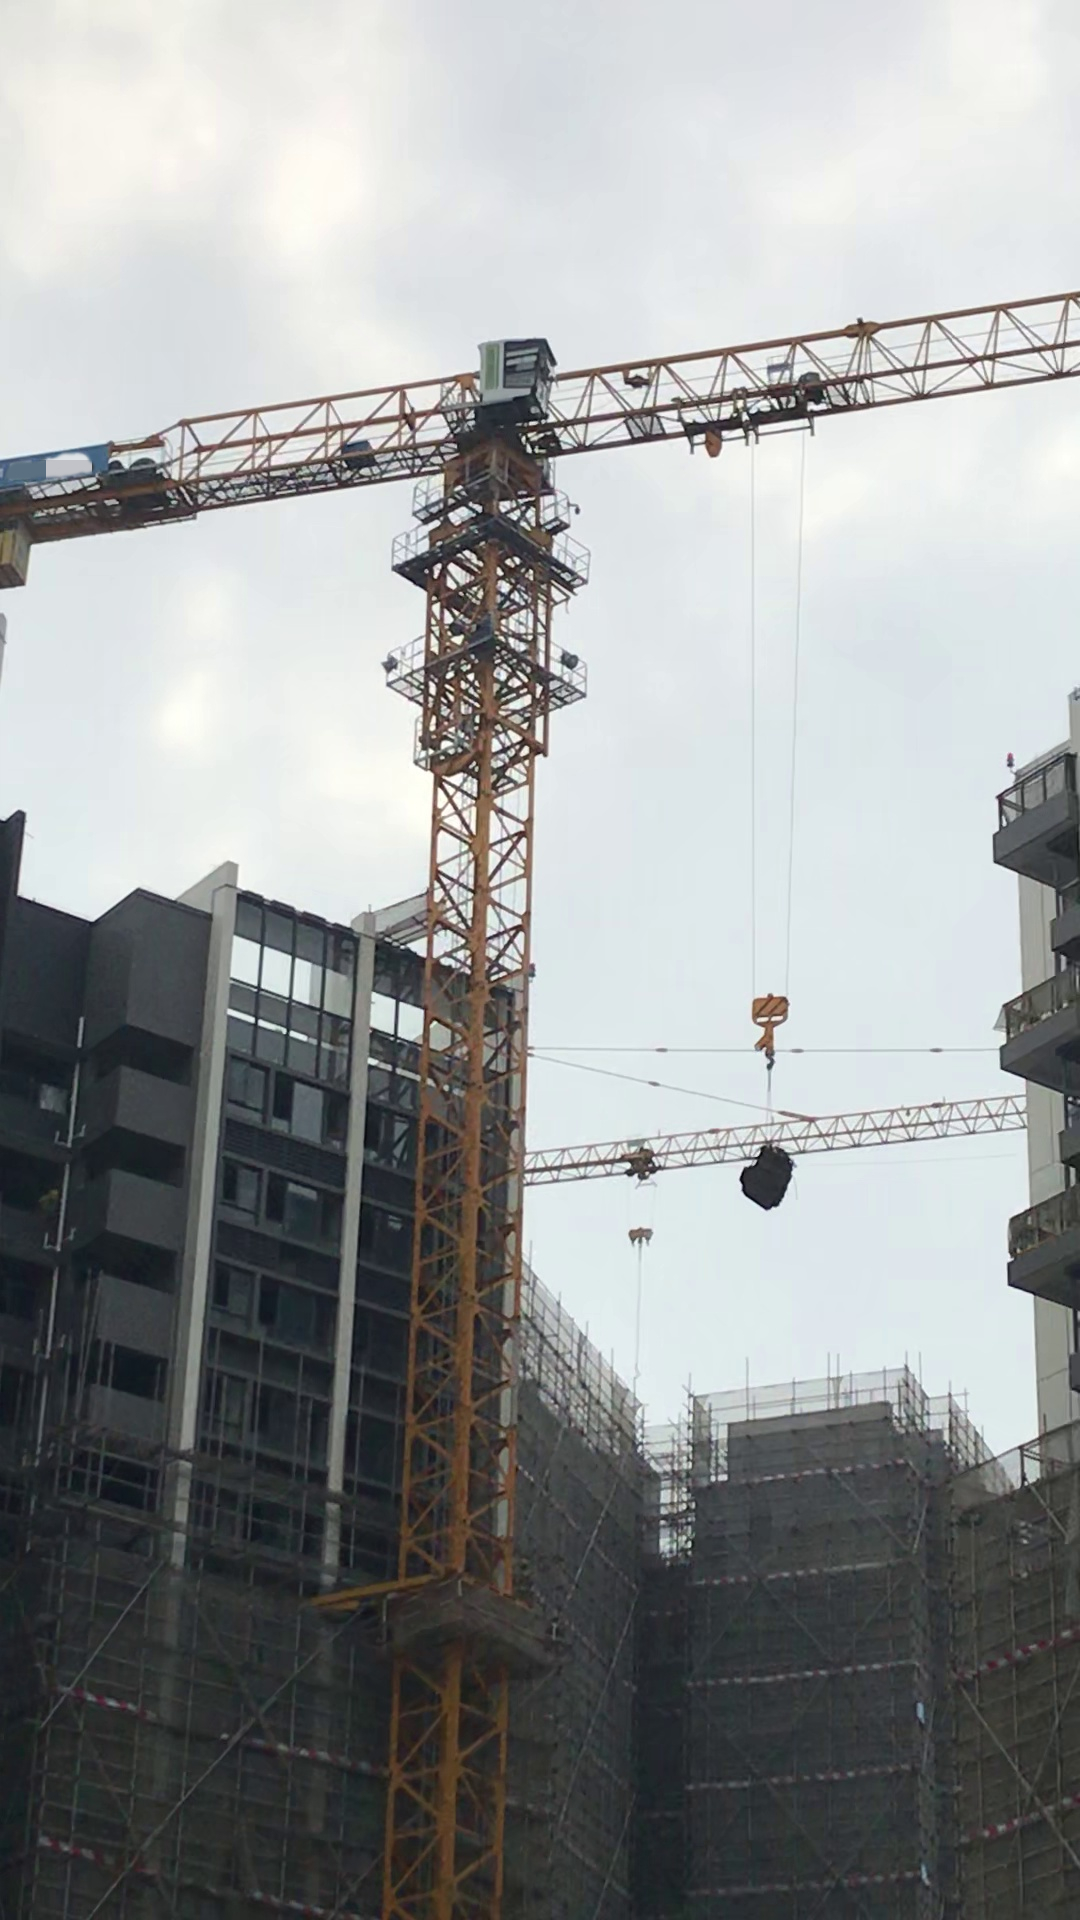hook: (749, 988, 796, 1073), (626, 1222, 662, 1246)
